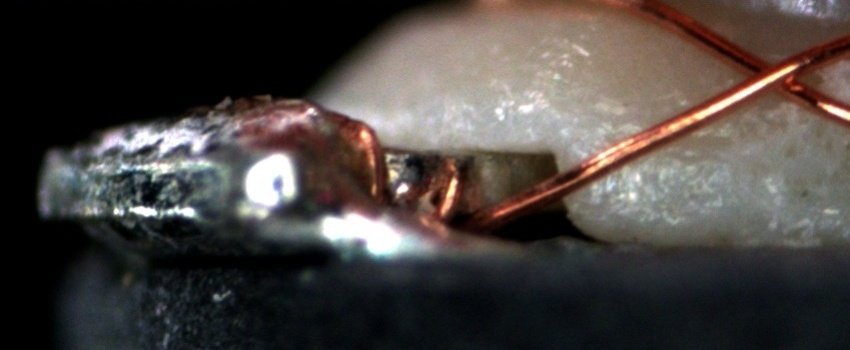CL: (727, 42, 821, 106)
DL: (596, 117, 745, 164)
TE: (352, 115, 468, 212)
